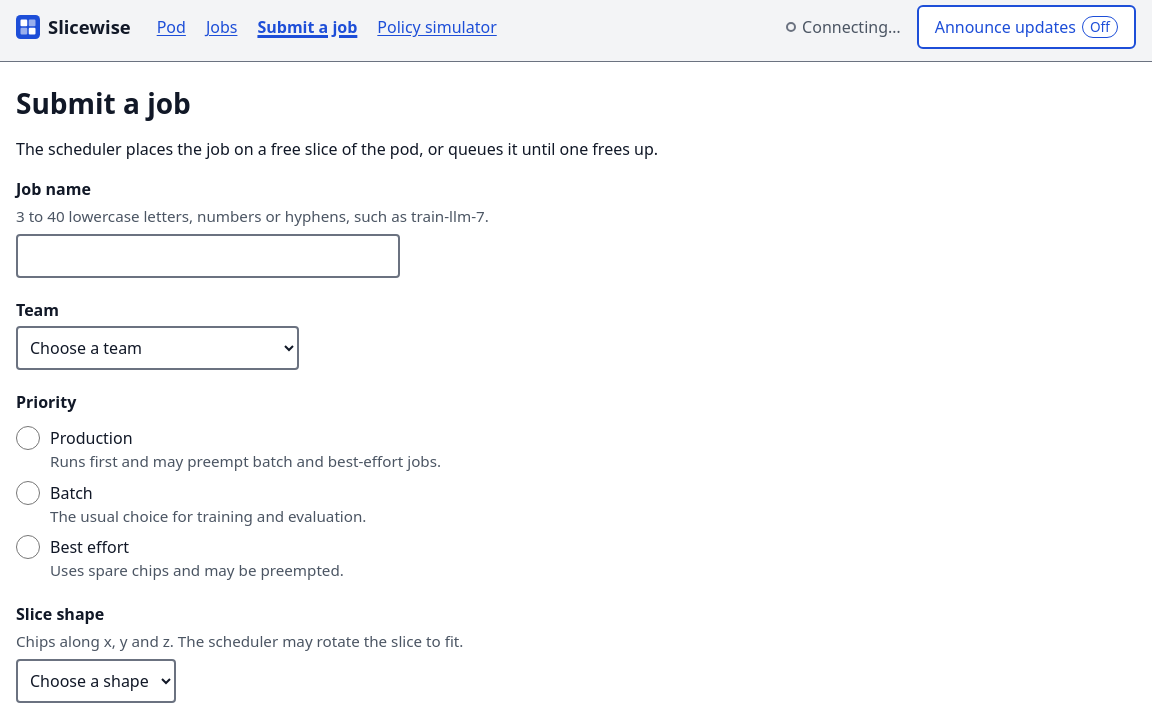
it: submit form › shows the server’s field errors the same way
In the field labelled "Job name": (208, 256) [16, 234, 400, 278], type "train-1"
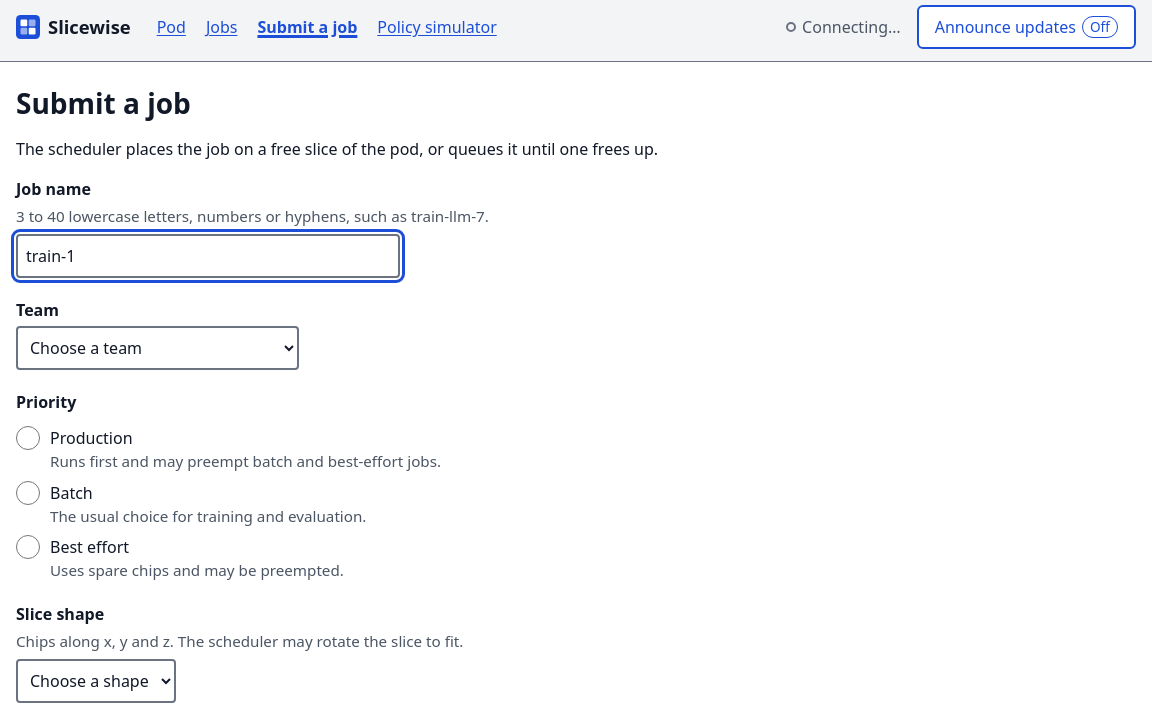
Select "serving (quota 6 chips, using 2)" in the dropdown labelled "Team": (158, 348) [16, 326, 299, 370]
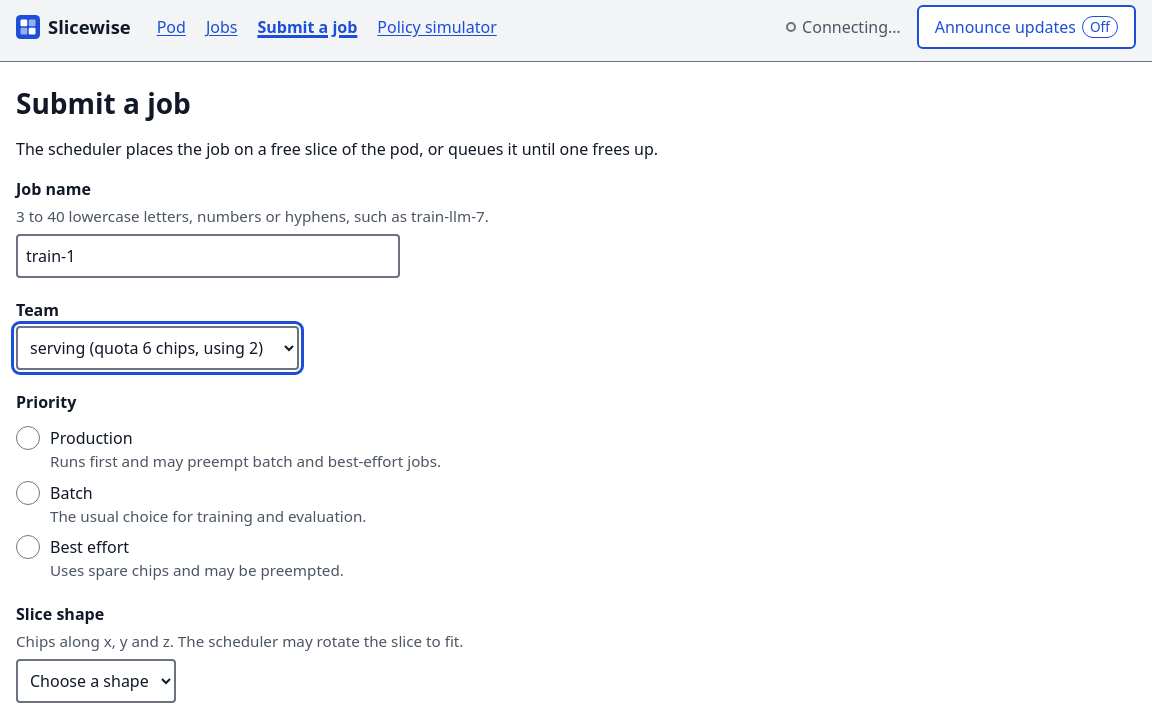
Click the radio button labelled "Best effort": (28, 547) [16, 535, 40, 559]
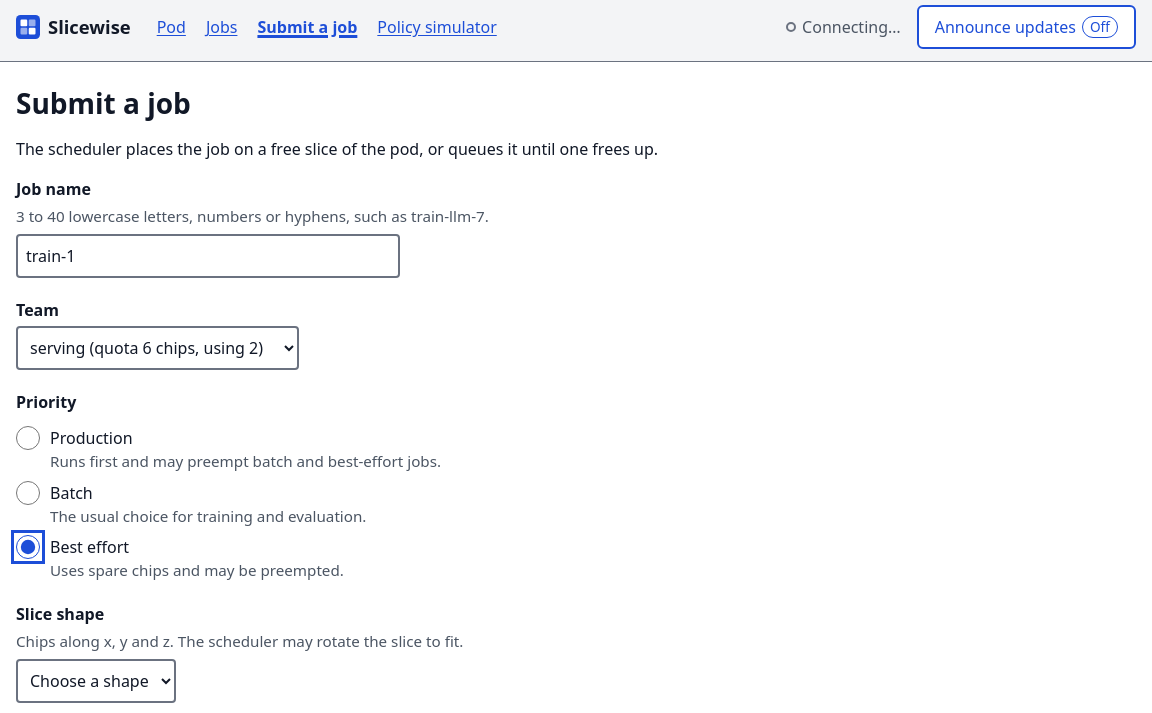
Select "2x2x2 (8 chips)" in the dropdown labelled "Slice shape": (96, 681) [16, 659, 176, 703]
(page scrolled)
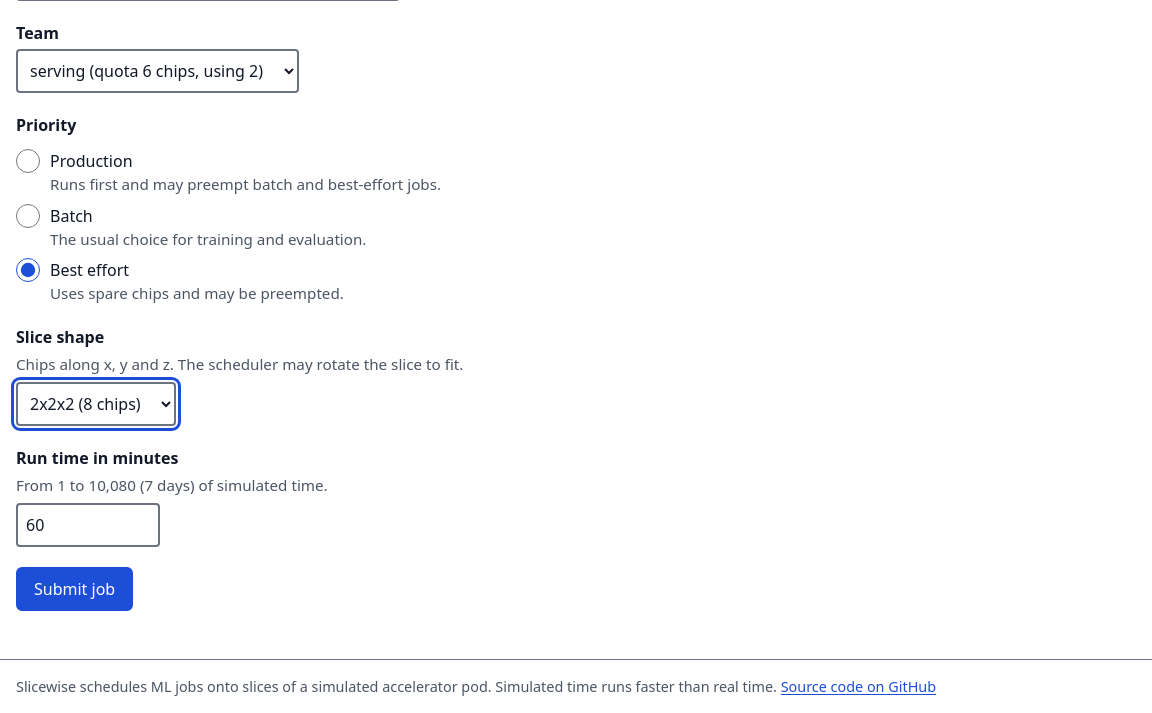
Click the button "Submit job": (75, 589) [16, 567, 133, 611]
(page scrolled)
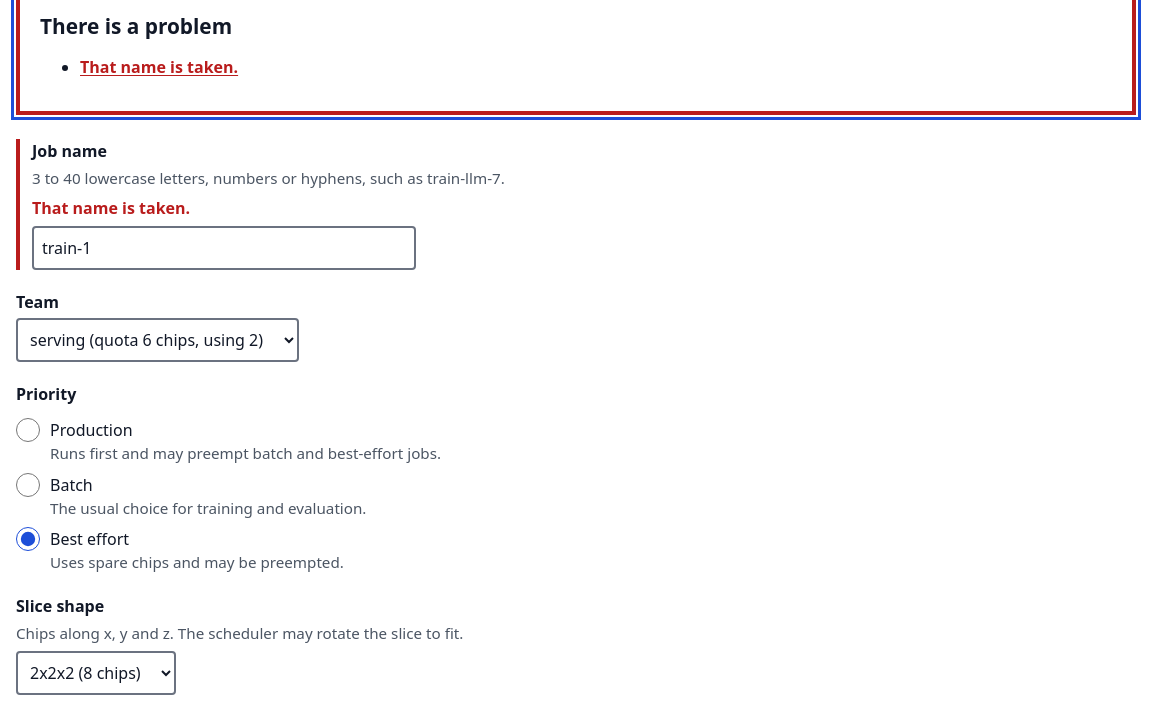
expect the link "That name is taken." is shown: met, box [80, 56, 238, 78]
